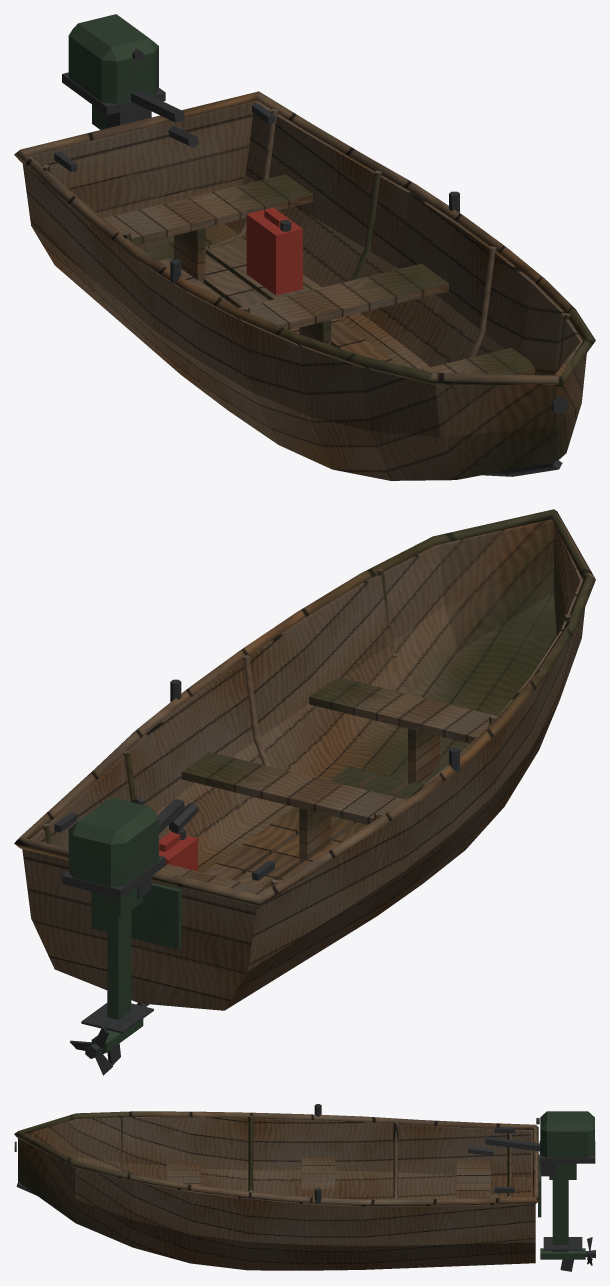
File: Boat.glb
The picture shows the model from 3 angles, top to bottom: view 1: azimuth 30°, elevation 25°; view 2: azimuth 150°, elevation 25°; view 3: azimuth 270°, elevation 25°; orthographic projection. The views are drawn at different scales.
Visible parts, largest first — view 1: Hull, Gunwale, Motor_Cowling, Seat_Rear, Seat_Middle, Fuel_Can, Floorboard_3, Seat_Front, Floorboard_2, Seat_Rear_Support, Motor_Cowling_Band, Rib_1 (+3 smaller); view 2: Hull, Gunwale, Seat_Middle, Motor_Cowling, Seat_Front, Floorboard_3, Transom_Plate, Motor_Leg, Floorboard_2, Seat_Front_Support, Seat_Middle_Support, Motor_AntiCav_Plate (+6 smaller); view 3: Hull, Gunwale, Motor_Cowling, Seat_Middle, Seat_Rear, Motor_Leg, Seat_Front, Motor_Tiller, Rib_1, Rib_2, Motor_Gearcase, Motor_AntiCav_Plate (+3 smaller).
Boxes of the visible parts, x1,y1,x2,y2 form: Hull: (22, 100, 586, 480); Gunwale: (14, 91, 595, 387); Motor_Cowling: (68, 14, 158, 103); Seat_Rear: (103, 174, 312, 244); Seat_Middle: (239, 263, 448, 329); Fuel_Can: (246, 207, 302, 295); Floorboard_3: (206, 243, 399, 364); Seat_Front: (421, 347, 535, 374); Floorboard_2: (204, 254, 299, 333); Seat_Rear_Support: (174, 228, 205, 284); Motor_Cowling_Band: (62, 72, 165, 115); Rib_1: (123, 170, 381, 280); Hull: (22, 519, 584, 1010); Gunwale: (14, 509, 595, 906); Seat_Middle: (181, 751, 404, 824); Motor_Cowling: (68, 797, 158, 887); Seat_Front: (309, 677, 497, 743); Floorboard_3: (204, 766, 376, 880); Transom_Plate: (91, 882, 181, 949); Motor_Leg: (107, 910, 131, 1019); Floorboard_2: (236, 774, 408, 888); Seat_Front_Support: (408, 728, 439, 784); Seat_Middle_Support: (299, 808, 331, 864); Motor_AntiCav_Plate: (81, 1003, 153, 1033); Hull: (18, 1117, 535, 1270); Gunwale: (14, 1111, 538, 1206); Motor_Cowling: (540, 1111, 594, 1157); Seat_Middle: (301, 1158, 335, 1198); Seat_Rear: (456, 1161, 490, 1198); Motor_Leg: (552, 1180, 568, 1252); Seat_Front: (166, 1163, 200, 1185); Motor_Tiller: (485, 1136, 540, 1151); Rib_1: (393, 1122, 398, 1199); Rib_2: (248, 1116, 253, 1192); Motor_Gearcase: (540, 1248, 585, 1259); Motor_AntiCav_Plate: (543, 1237, 582, 1250).
Bounding box in the file's own units: 1.8 × 1.5 × 5.11.
Materials: 1 (1 with a texture image).
